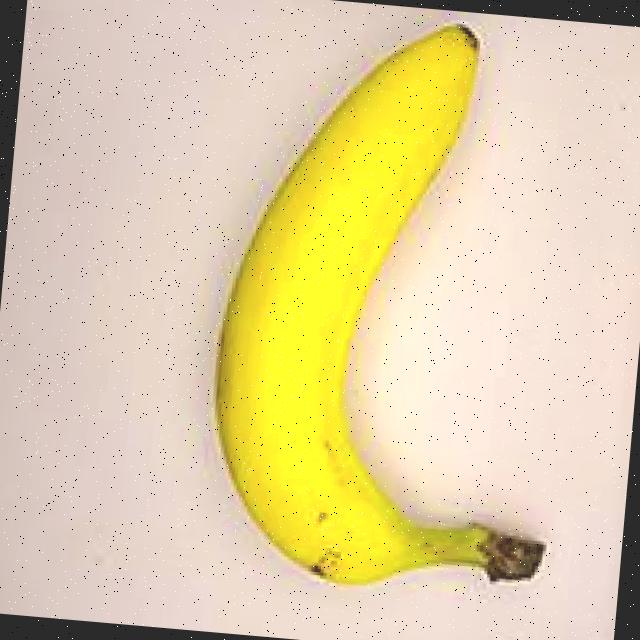Ripe: (171, 0, 601, 620)
